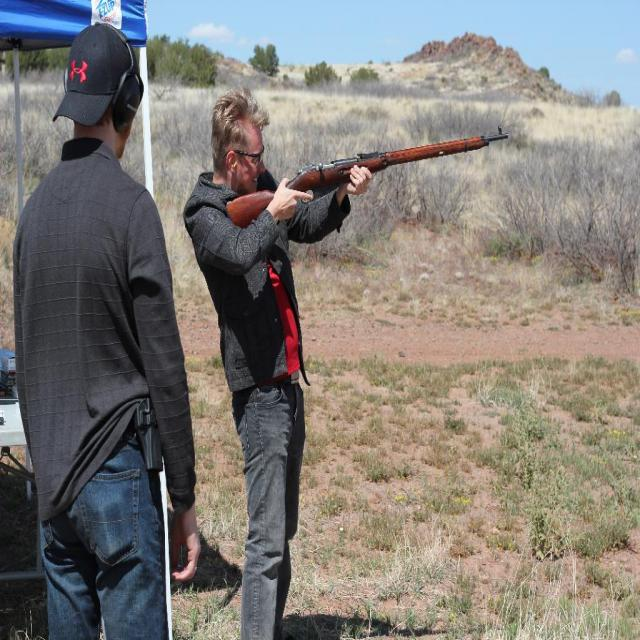weapon: (223, 124, 512, 228)
